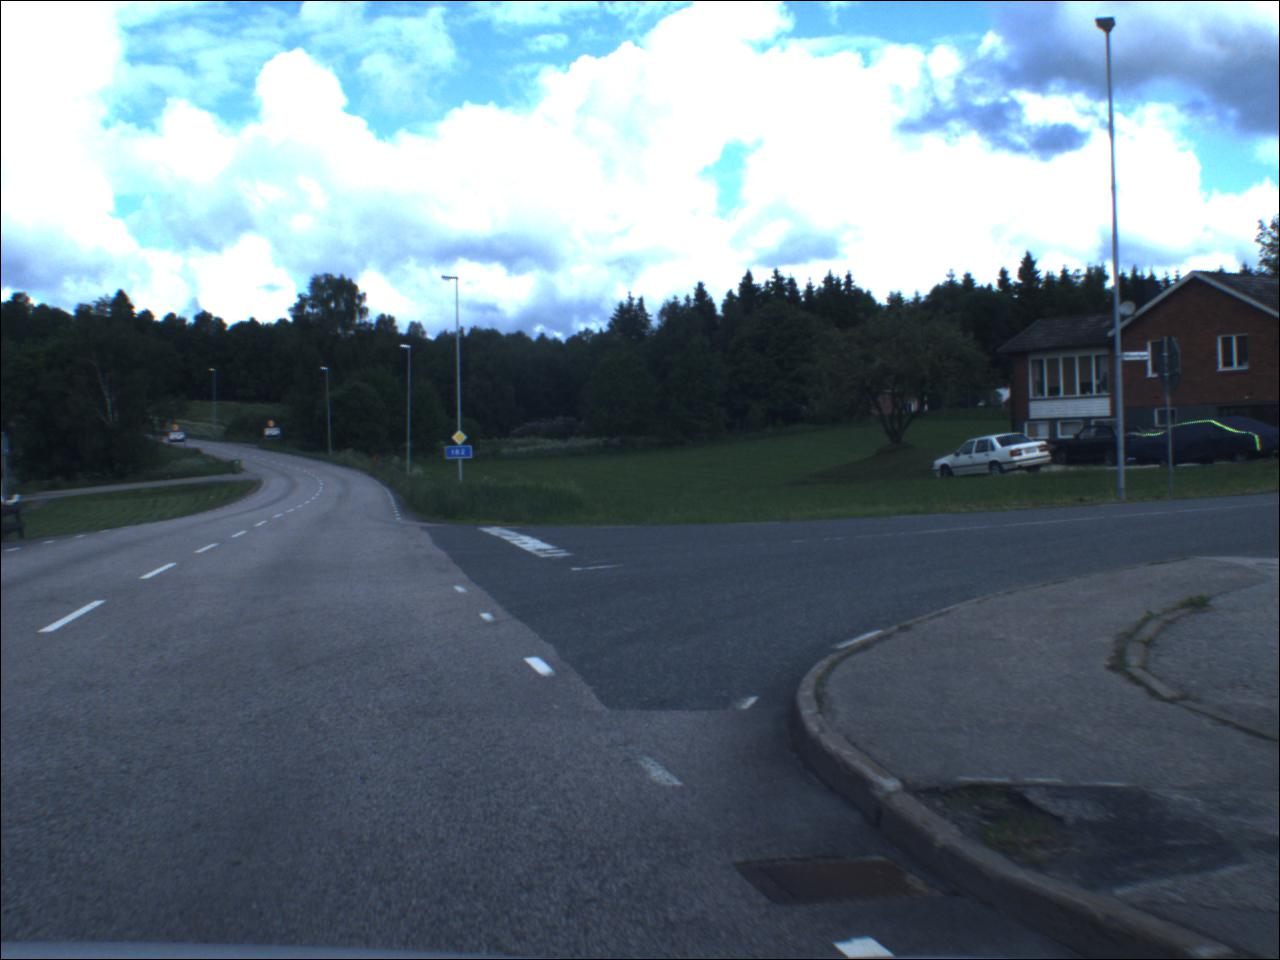80_SIGN: (267, 422, 278, 430), (173, 426, 182, 433)
PRIORITY_ROAD: (453, 431, 471, 448)
